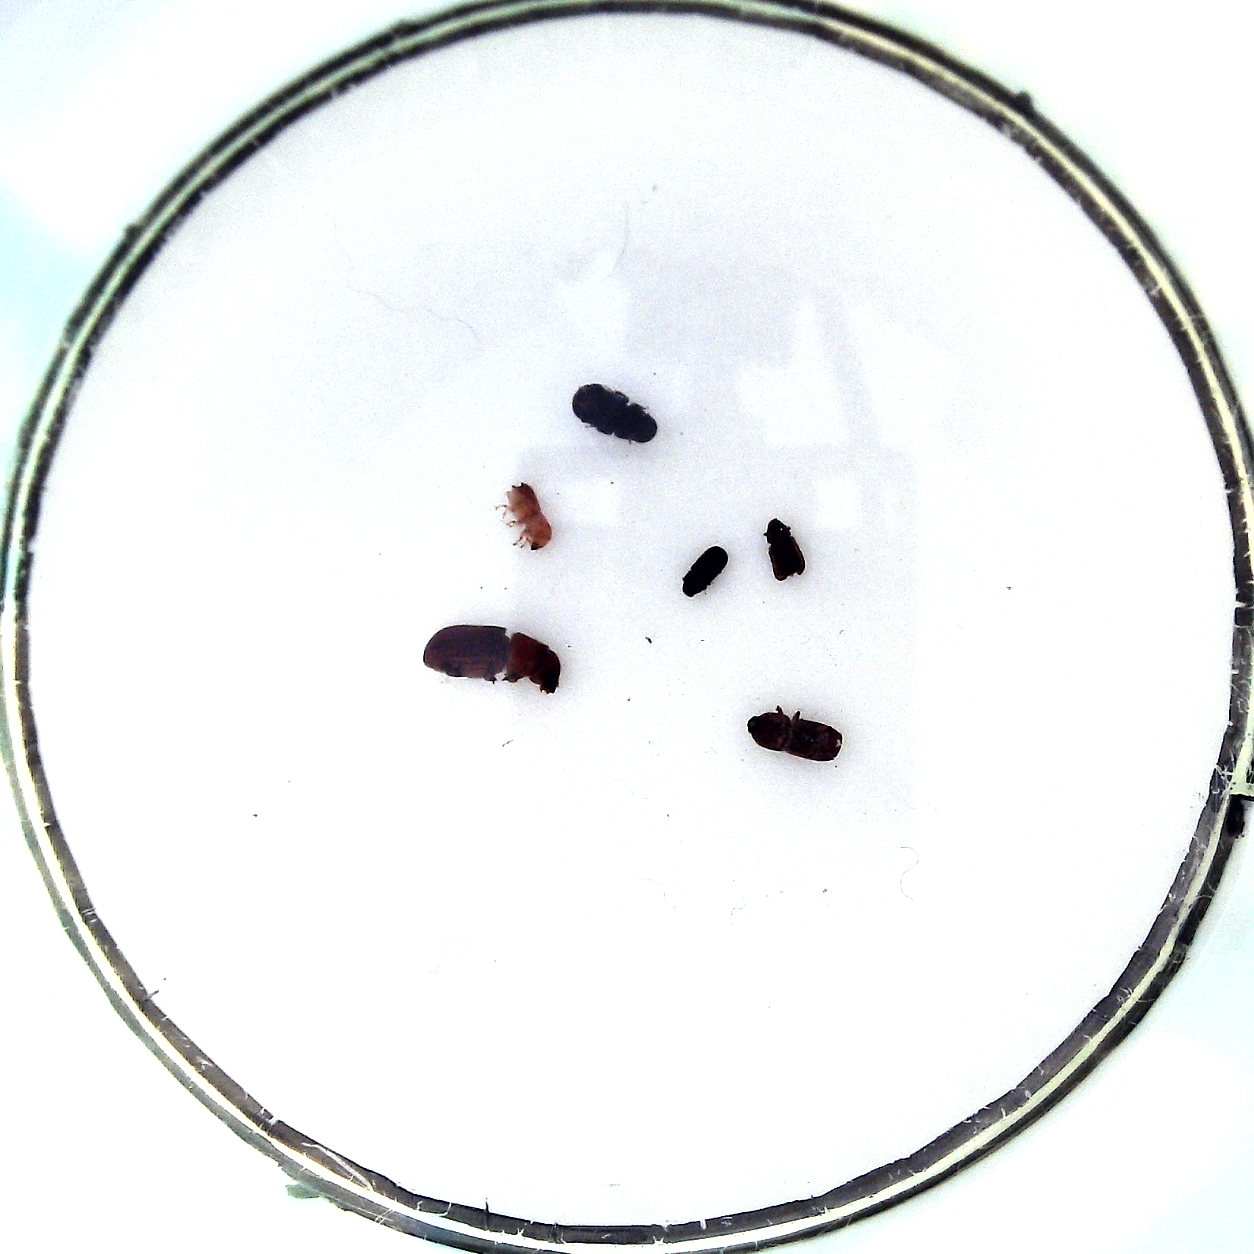Leconte: (421, 624, 562, 694)
acuminatus: (682, 545, 728, 597)
armandi: (573, 384, 657, 443)
coleoptera: (506, 483, 554, 550), (766, 518, 804, 581)
linnaeus: (746, 712, 842, 763)
